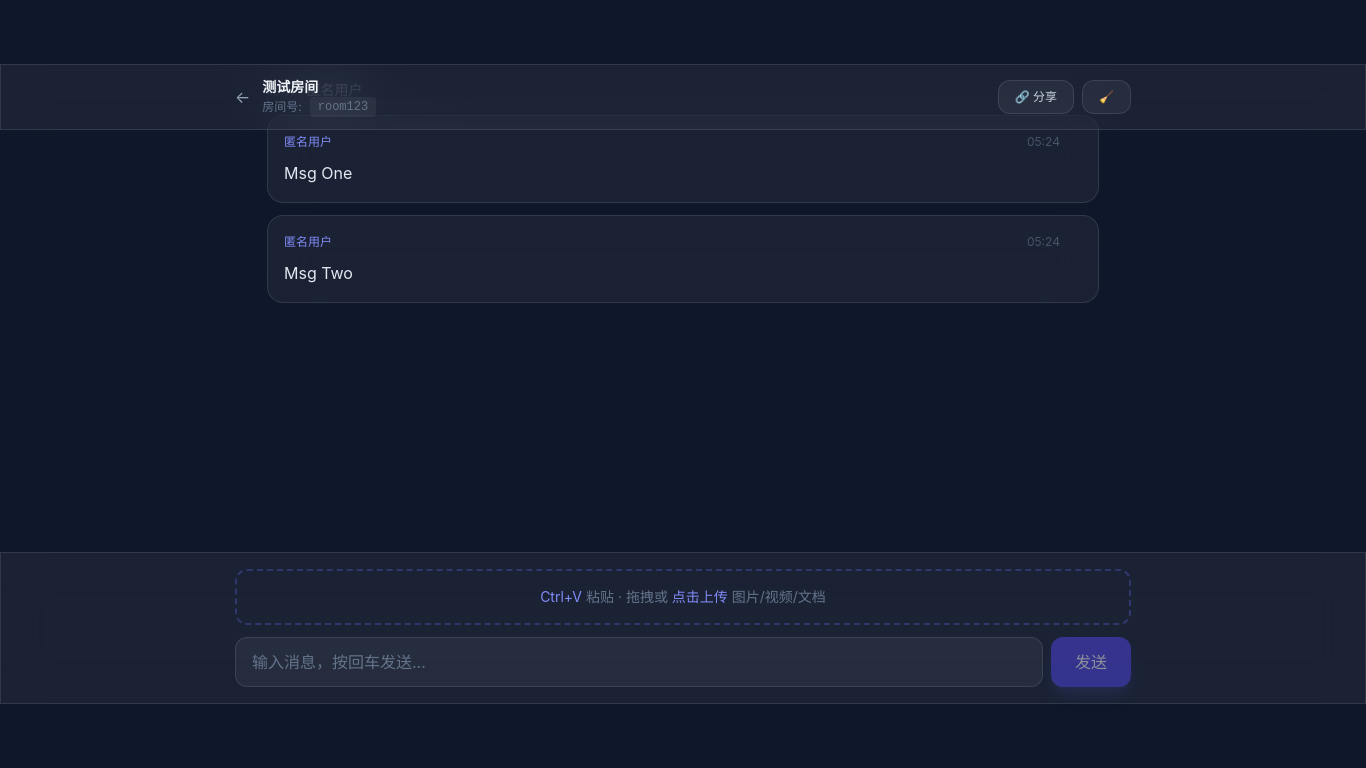
Test: Room Page — Clear All Messages › clears all messages after confirmation
This screenshot has width=1366, height=768.
Expected: the text "Msg One" is shown, [284,163,352,183]
Click the button titled "清空所有消息" at coordinates (1106, 97), box [1082,80,1131,114]
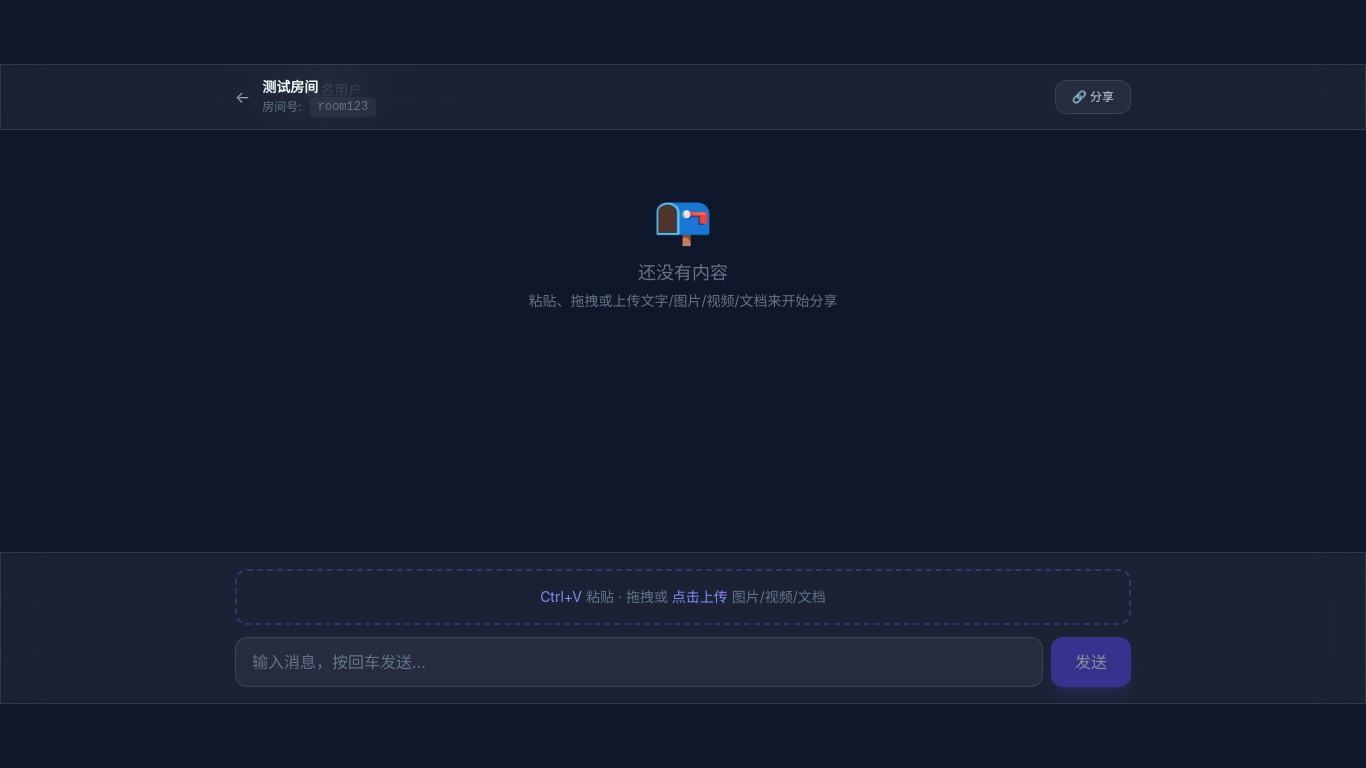
Expected: the text "Msg One" is gone
Expected: the text "Msg Two" is gone
Expected: the text "还没有内容" is shown, [638,262,728,283]
